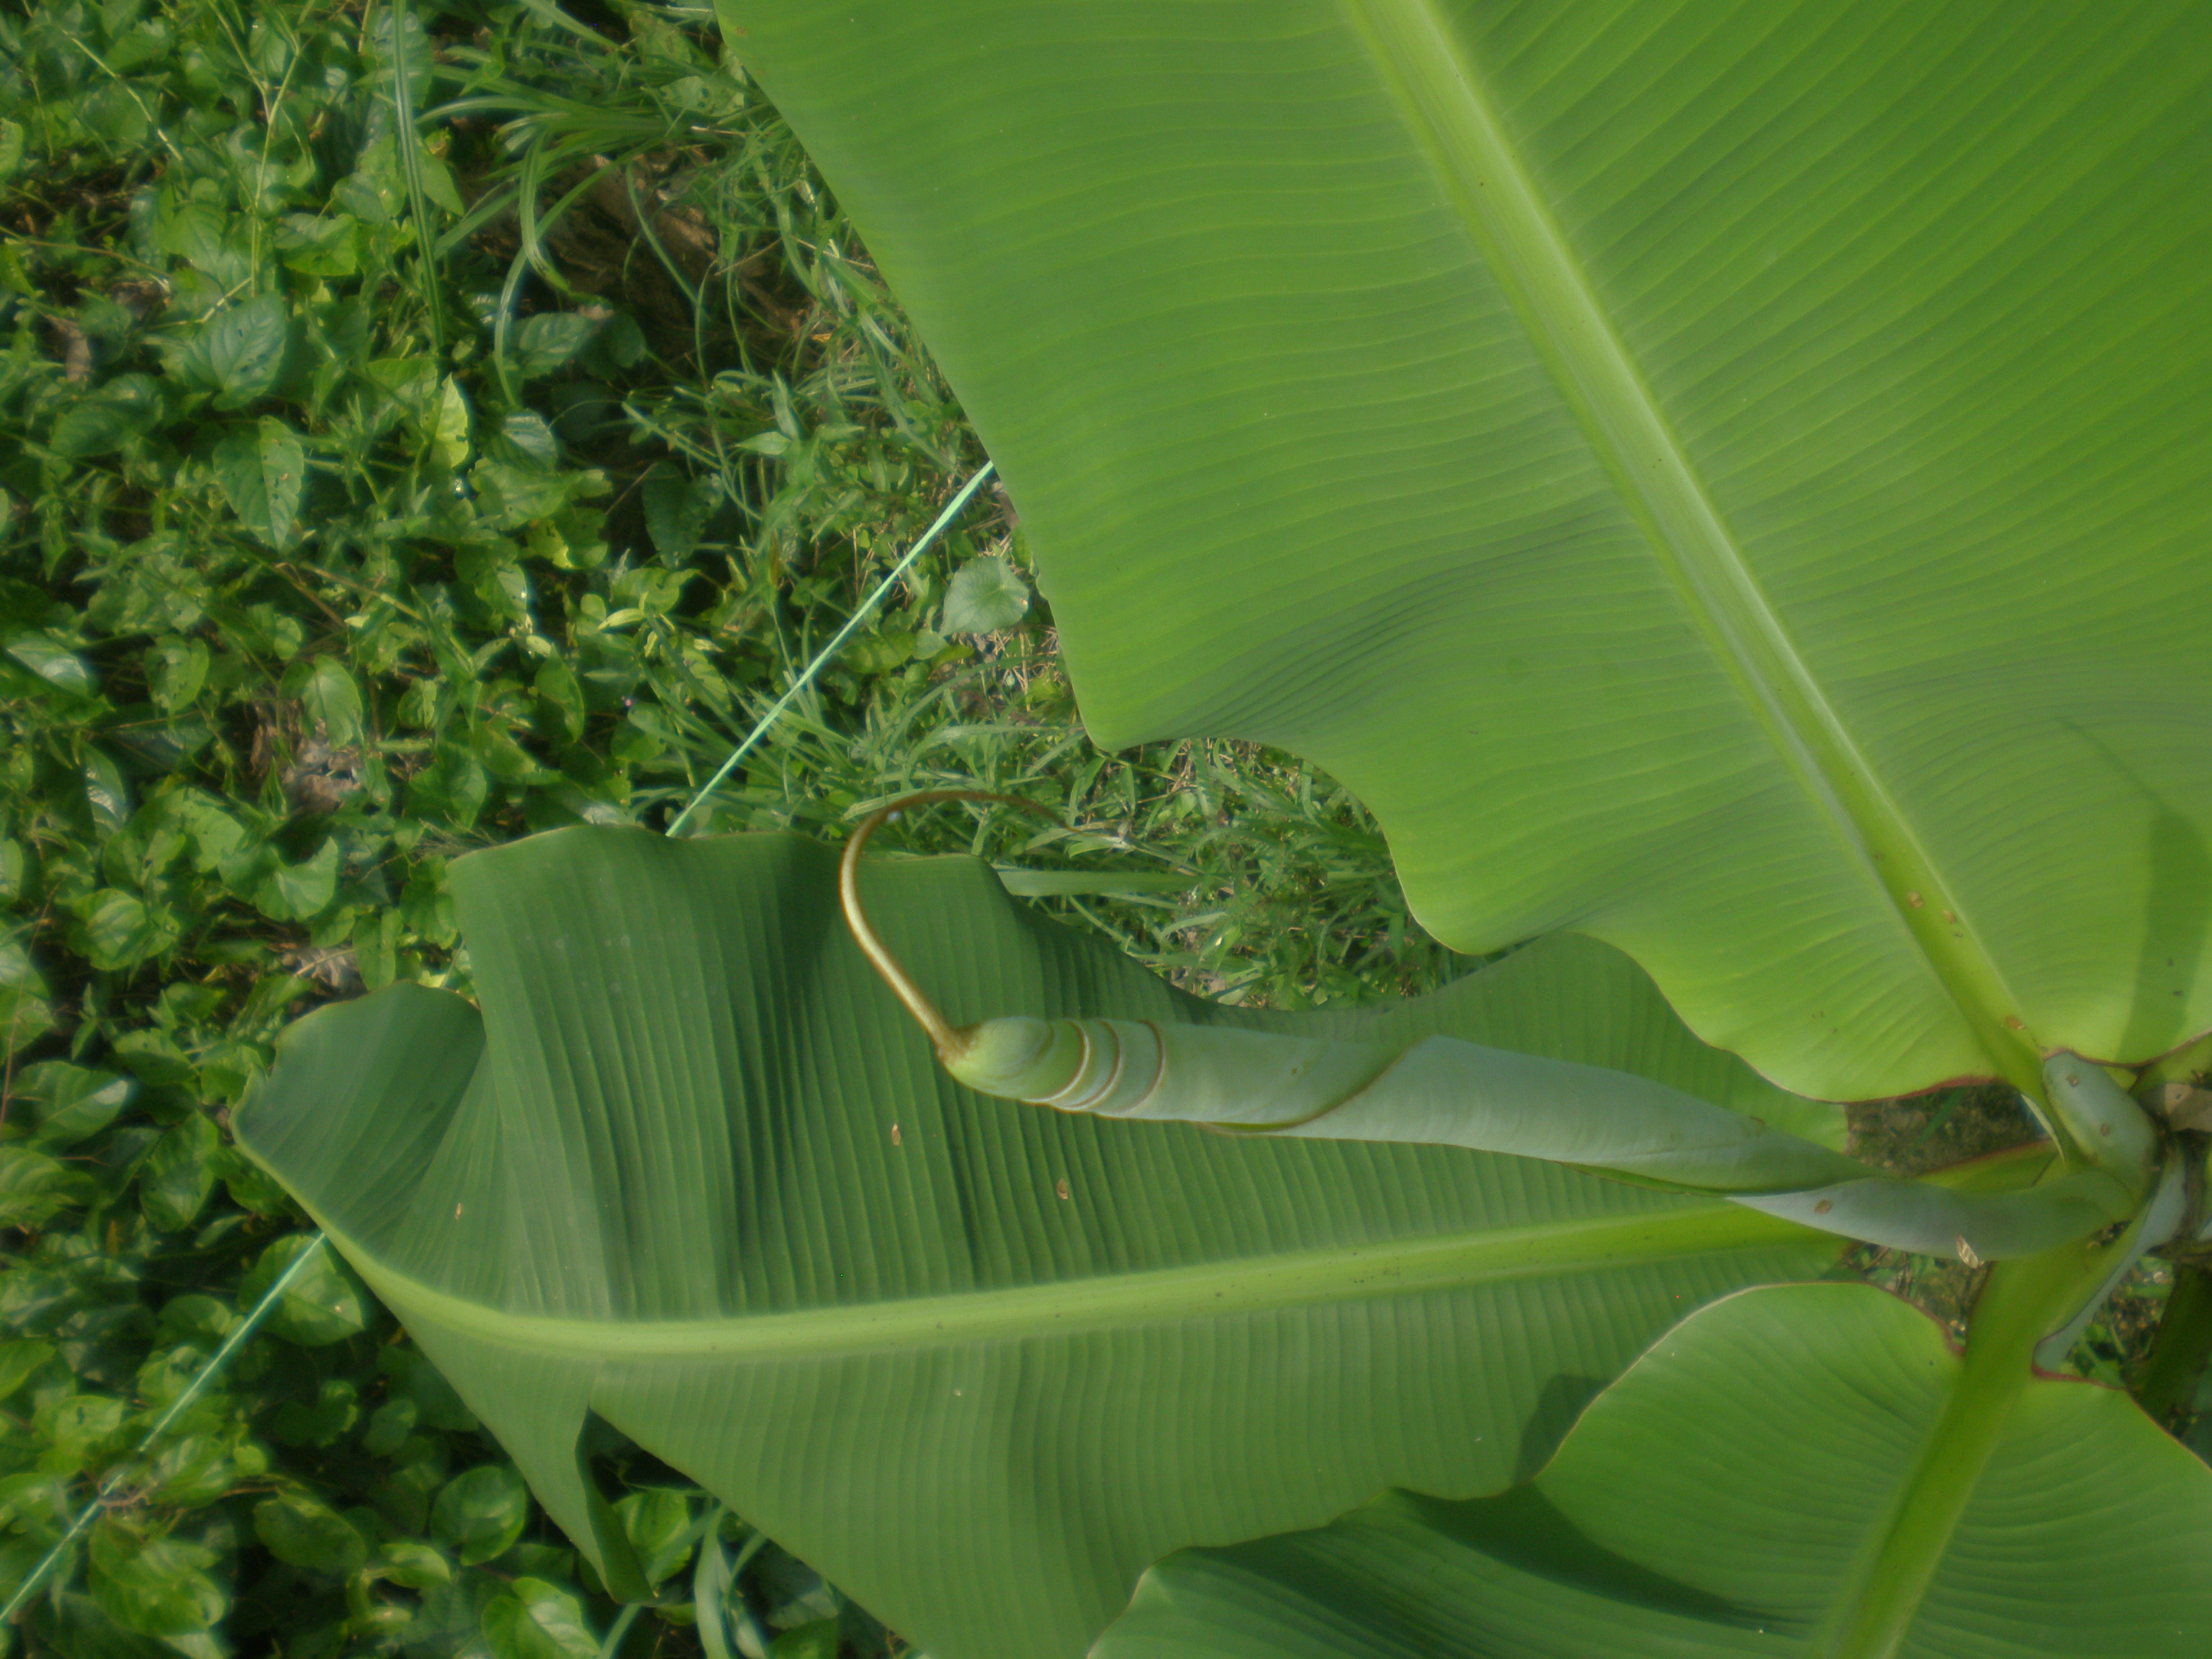candleleafs: (923, 1016, 2060, 1286)
